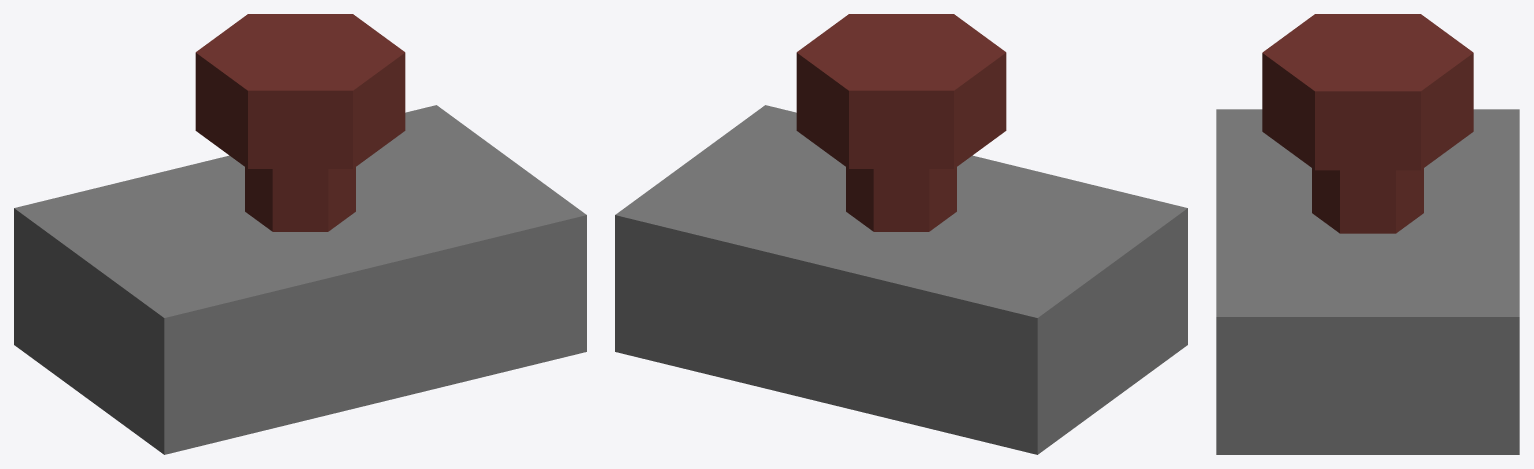
The model's file is button.fbx.
3 renders of one model, left to right at view 1: azimuth 30°, elevation 25°; view 2: azimuth 150°, elevation 25°; view 3: azimuth 270°, elevation 25°, orthographic.
Visible parts, largest first — view 1: Cube, Cylinder.001; view 2: Cube, Cylinder.001; view 3: Cube, Cylinder.001.
Boxes of the visible parts, <box> form: Cube: <box>14,105,586,454</box>; Cylinder.001: <box>195,14,405,231</box>; Cube: <box>615,105,1187,454</box>; Cylinder.001: <box>796,14,1006,231</box>; Cube: <box>1216,109,1519,454</box>; Cylinder.001: <box>1262,14,1473,233</box>.
Size of the model in its own units: 86.53 by 57.92 by 53.32.
